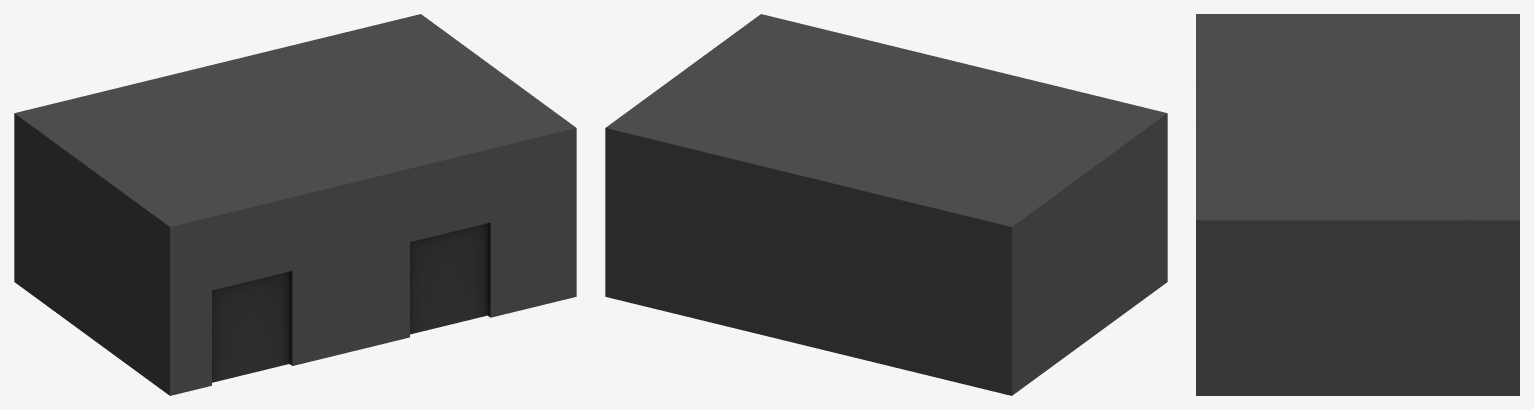
Rendered from Garage.fbx.
3 views of the same model, side by side, from view 1: azimuth 30°, elevation 25°; view 2: azimuth 150°, elevation 25°; view 3: azimuth 270°, elevation 25° (orthographic). The views are drawn at different scales.
Parts seen in each view (by area): view 1: Garage; view 2: Garage; view 3: Garage.
Part boxes in pixels (left/top/right/bottom): Garage: left=14, top=14, right=576, bottom=395; Garage: left=605, top=14, right=1167, bottom=395; Garage: left=1196, top=14, right=1519, bottom=395.
Size of the model in its own units: 61.17 by 24.28 by 40.57.
